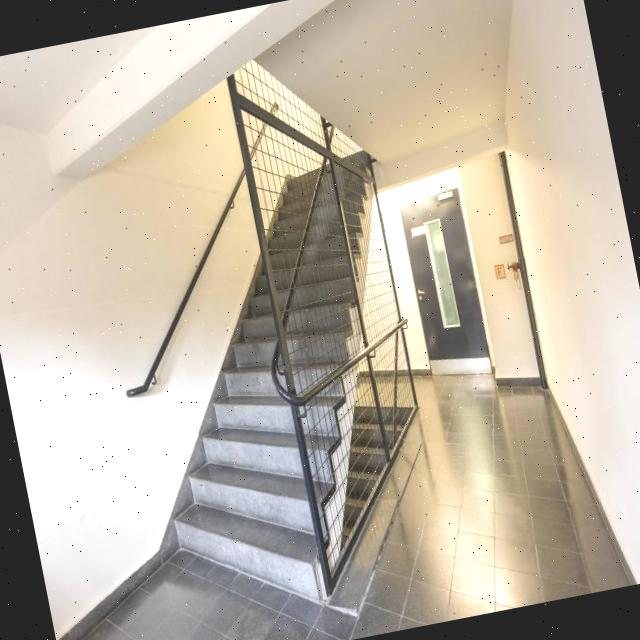stairs: (110, 150, 444, 630)
